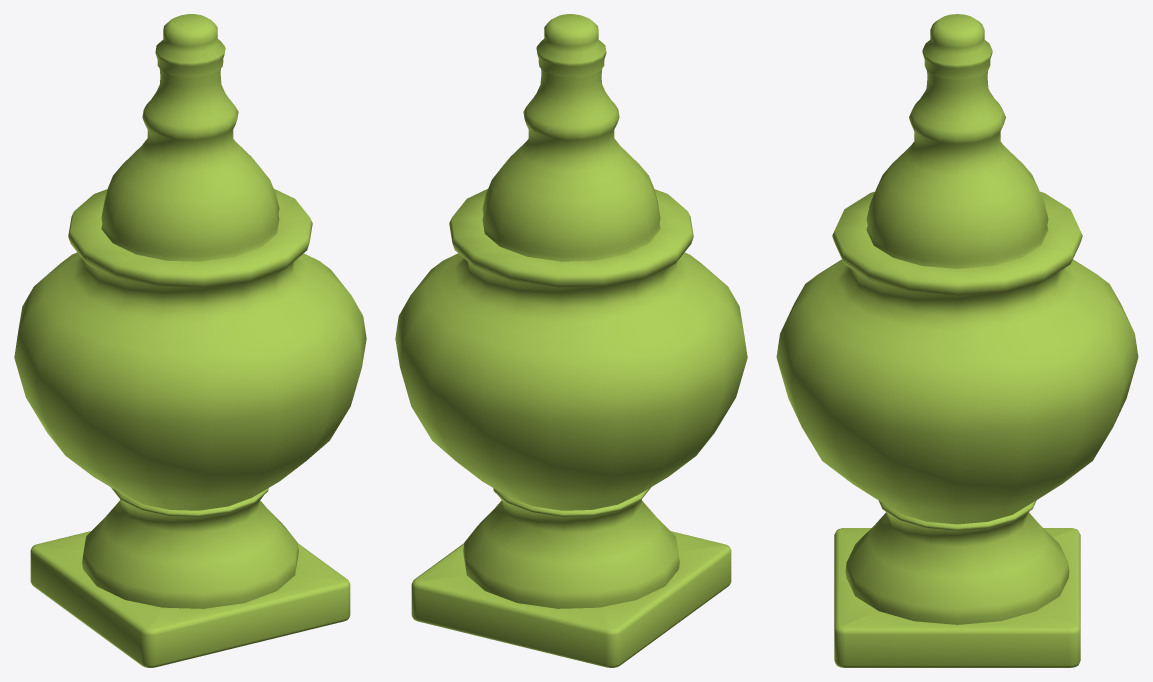
Rendered from Vase.fbx.
3 views of the same model, side by side, from view 1: azimuth 30°, elevation 25°; view 2: azimuth 150°, elevation 25°; view 3: azimuth 270°, elevation 25° (orthographic). The views are drawn at different scales.
Parts seen in each view (by area): view 1: Vase; view 2: Vase; view 3: Vase.
Part boxes in pixels (<box>): Vase: <box>14,14,366,667</box>; Vase: <box>395,14,747,667</box>; Vase: <box>776,14,1138,667</box>.
Size of the model in its own units: 20.7 by 37.33 by 20.57.
